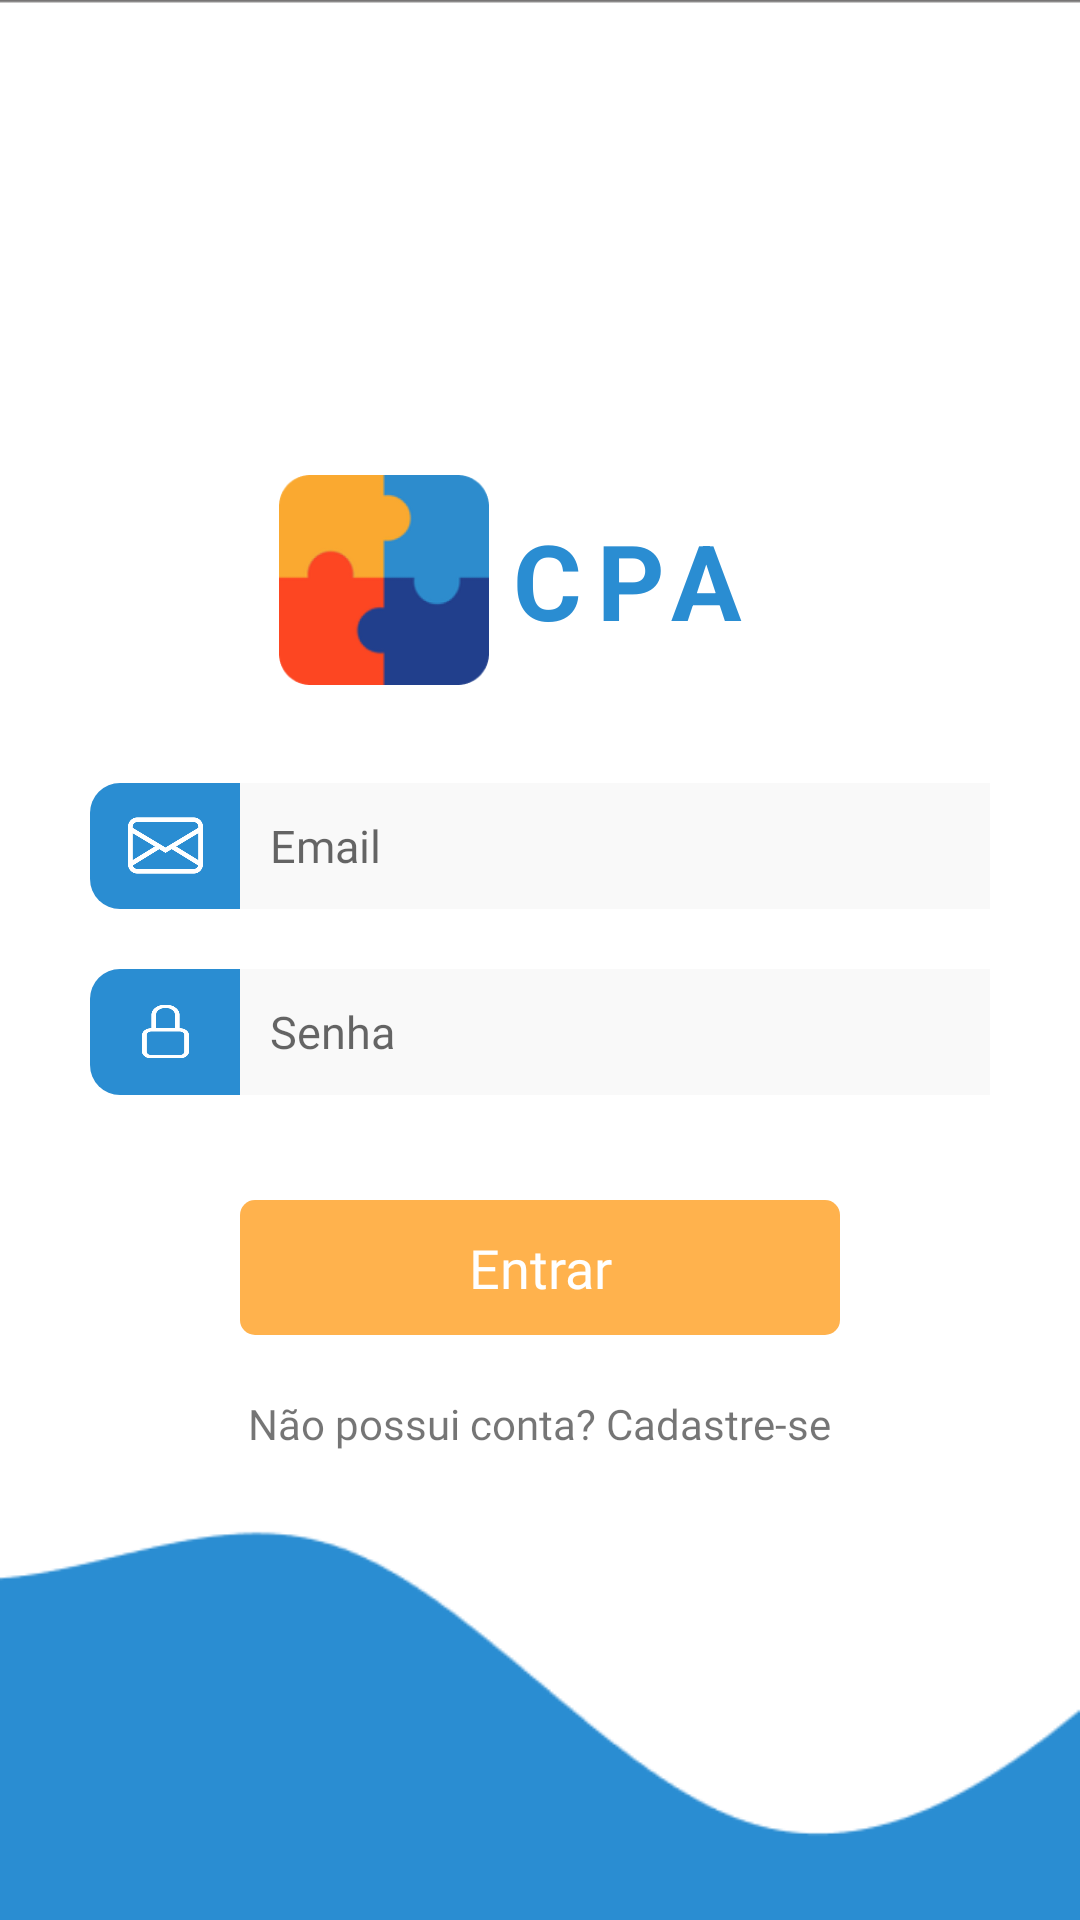

Point at icon controls on the screen. Image size 1080x1920, points as point (x, y).
lock: point (165, 1031)
